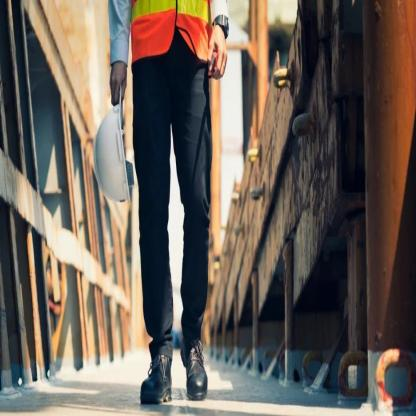bota: (180, 332, 209, 403), (140, 352, 172, 406)
